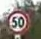limite 50: (5, 8, 29, 33)
